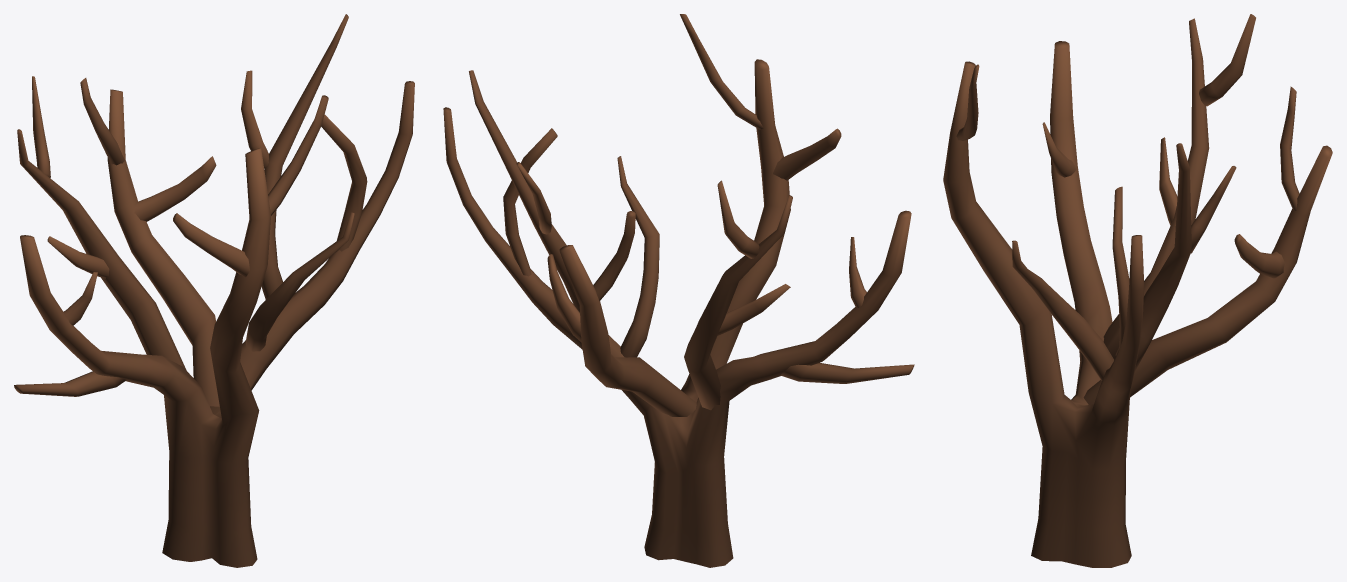
File: Naked_Tree_02.fbx
The picture shows the model from 3 angles, left to right: view 1: azimuth 30°, elevation 25°; view 2: azimuth 150°, elevation 25°; view 3: azimuth 270°, elevation 25°; orthographic projection. The views are drawn at different scales.
Parts seen in each view (by area): view 1: Naked_Tree_02; view 2: Naked_Tree_02; view 3: Naked_Tree_02.
Boxes of the visible parts, x1,y1,x2,y2 form: Naked_Tree_02: (14, 14, 414, 567); Naked_Tree_02: (443, 14, 914, 567); Naked_Tree_02: (943, 14, 1332, 567).
Size of the model in its own units: 144 by 153 by 105.
